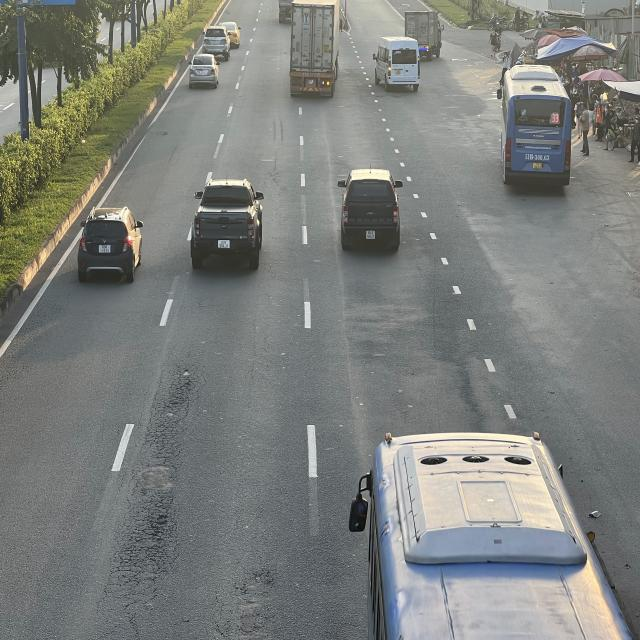car: (190, 178, 267, 268), (338, 173, 403, 252), (80, 206, 147, 280), (189, 53, 221, 87)
coach: (358, 432, 640, 640), (496, 64, 574, 189)
container: (293, 2, 342, 98)
truck: (405, 7, 443, 59)
van: (375, 38, 422, 94)
